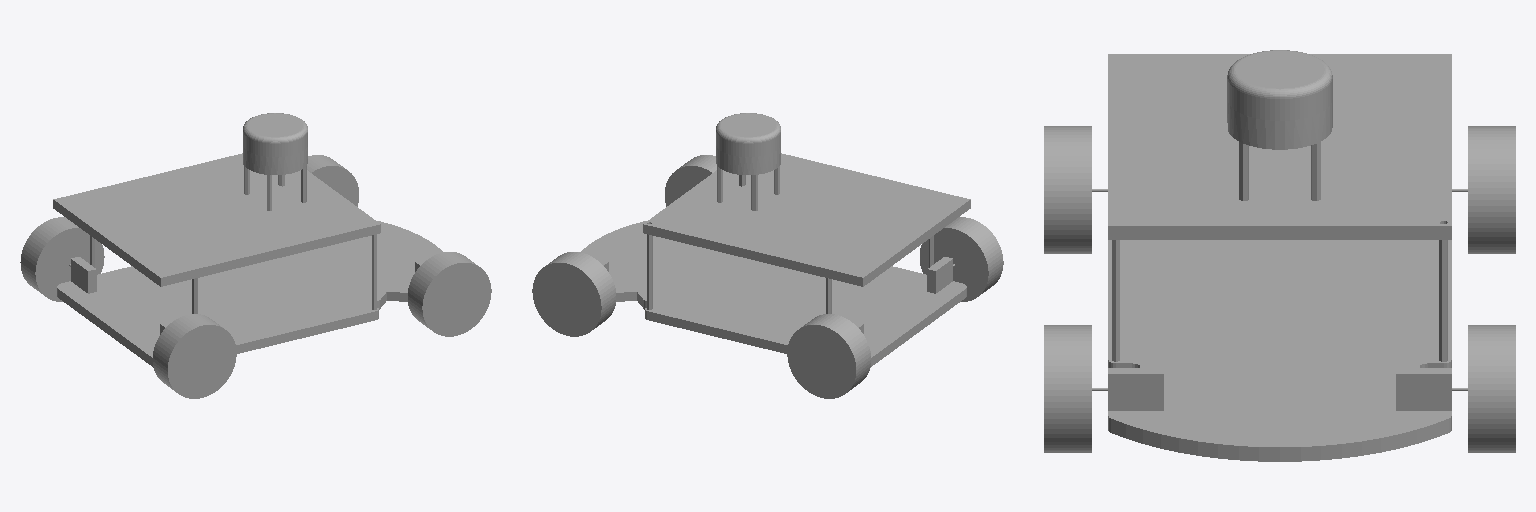
The robot description file, URDF, robot "4weel_version2":
<?xml version="1.0" ?>
<!-- =================================================================================== -->
<!-- |    This document was autogenerated by xacro from urdf/4weel_version2.xacro      | -->
<!-- |    EDITING THIS FILE BY HAND IS NOT RECOMMENDED                                 | -->
<!-- =================================================================================== -->
<robot xmlns:xacro="http://www.ros.org/wiki/xacro" name="4weel_version2">
  <material name="silver">
    <color rgba="0.700 0.700 0.700 1.000"/>
  </material>
  <transmission name="Revolute 8_tran">
    <type>transmission_interface/SimpleTransmission</type>
    <joint name="Revolute 8">
      <hardwareInterface>hardware_interface/EffortJointInterface</hardwareInterface>
    </joint>
    <actuator name="Revolute 8_actr">
      <hardwareInterface>hardware_interface/EffortJointInterface</hardwareInterface>
      <mechanicalReduction>1</mechanicalReduction>
    </actuator>
  </transmission>
  <transmission name="Revolute 9_tran">
    <type>transmission_interface/SimpleTransmission</type>
    <joint name="Revolute 9">
      <hardwareInterface>hardware_interface/EffortJointInterface</hardwareInterface>
    </joint>
    <actuator name="Revolute 9_actr">
      <hardwareInterface>hardware_interface/EffortJointInterface</hardwareInterface>
      <mechanicalReduction>1</mechanicalReduction>
    </actuator>
  </transmission>
  <transmission name="Revolute 10_tran">
    <type>transmission_interface/SimpleTransmission</type>
    <joint name="Revolute 10">
      <hardwareInterface>hardware_interface/EffortJointInterface</hardwareInterface>
    </joint>
    <actuator name="Revolute 10_actr">
      <hardwareInterface>hardware_interface/EffortJointInterface</hardwareInterface>
      <mechanicalReduction>1</mechanicalReduction>
    </actuator>
  </transmission>
  <transmission name="Revolute 11_tran">
    <type>transmission_interface/SimpleTransmission</type>
    <joint name="Revolute 11">
      <hardwareInterface>hardware_interface/EffortJointInterface</hardwareInterface>
    </joint>
    <actuator name="Revolute 11_actr">
      <hardwareInterface>hardware_interface/EffortJointInterface</hardwareInterface>
      <mechanicalReduction>1</mechanicalReduction>
    </actuator>
  </transmission>
  <gazebo>
    <plugin name="control" filename="libgazebo_ros_control.so"/>
  </gazebo>
  <gazebo reference="base_link">
    <material>Gazebo/Silver</material>
    <mu1>0.2</mu1>
    <mu2>0.2</mu2>
    <selfCollide>true</selfCollide>
    <gravity>true</gravity>
  </gazebo>
  <gazebo reference="lidar_v1_1">
    <material>Gazebo/Silver</material>
    <mu1>0.2</mu1>
    <mu2>0.2</mu2>
    <selfCollide>true</selfCollide>
  </gazebo>
  <gazebo reference="back_left_1">
    <material>Gazebo/Silver</material>
    <mu1>0.2</mu1>
    <mu2>0.2</mu2>
    <selfCollide>true</selfCollide>
  </gazebo>
  <gazebo reference="back_right_1">
    <material>Gazebo/Silver</material>
    <mu1>0.2</mu1>
    <mu2>0.2</mu2>
    <selfCollide>true</selfCollide>
  </gazebo>
  <gazebo reference="front_left_1">
    <material>Gazebo/Silver</material>
    <mu1>0.2</mu1>
    <mu2>0.2</mu2>
    <selfCollide>true</selfCollide>
  </gazebo>
  <gazebo reference="front_right_1">
    <material>Gazebo/Silver</material>
    <mu1>0.2</mu1>
    <mu2>0.2</mu2>
    <selfCollide>true</selfCollide>
  </gazebo>
  <link name="base_link">
    <inertial>
      <origin xyz="-0.0026827952129199395 -9.24237718342667e-06 0.050011490590469505" rpy="0 0 0"/>
      <mass value="11.135828149573104"/>
      <inertia ixx="0.069638" iyy="0.133325" izz="0.14446" ixy="1.3e-05" iyz="4e-06" ixz="0.010205"/>
    </inertial>
    <visual>
      <origin xyz="0 0 0" rpy="0 0 0"/>
      <geometry>
        <mesh filename="package://4weel_version2_description/meshes/base_link.stl" scale="0.001 0.001 0.001"/>
      </geometry>
      <material name="silver"/>
    </visual>
    <collision>
      <origin xyz="0 0 0" rpy="0 0 0"/>
      <geometry>
        <mesh filename="package://4weel_version2_description/meshes/base_link.stl" scale="0.001 0.001 0.001"/>
      </geometry>
    </collision>
  </link>
  <link name="lidar_v1_1">
    <inertial>
      <origin xyz="0.09999999899417161 -4.220056531838944e-18 0.009858499938735416" rpy="0 0 0"/>
      <mass value="0.5286905929941375"/>
      <inertia ixx="0.000159" iyy="0.000159" izz="0.000284" ixy="-0.0" iyz="0.0" ixz="-0.0"/>
    </inertial>
    <visual>
      <origin xyz="0.0675 -0.0 -0.165" rpy="0 0 0"/>
      <geometry>
        <mesh filename="package://4weel_version2_description/meshes/lidar_v1_1.stl" scale="0.001 0.001 0.001"/>
      </geometry>
      <material name="silver"/>
    </visual>
    <collision>
      <origin xyz="0.0675 -0.0 -0.165" rpy="0 0 0"/>
      <geometry>
        <mesh filename="package://4weel_version2_description/meshes/lidar_v1_1.stl" scale="0.001 0.001 0.001"/>
      </geometry>
    </collision>
  </link>
  <link name="back_left_1">
    <inertial>
      <origin xyz="-2.0116567023276133e-09 -0.015000000000000013 1.0408340855860843e-17" rpy="0 0 0"/>
      <mass value="1.1837521118726324"/>
      <inertia ixx="0.000562" iyy="0.000947" izz="0.000562" ixy="-0.0" iyz="0.0" ixz="-0.0"/>
    </inertial>
    <visual>
      <origin xyz="0.1375 0.1175 -0.0225" rpy="0 0 0"/>
      <geometry>
        <mesh filename="package://4weel_version2_description/meshes/back_left_1.stl" scale="0.001 0.001 0.001"/>
      </geometry>
      <material name="silver"/>
    </visual>
    <collision>
      <origin xyz="0.1375 0.1175 -0.0225" rpy="0 0 0"/>
      <geometry>
        <mesh filename="package://4weel_version2_description/meshes/back_left_1.stl" scale="0.001 0.001 0.001"/>
      </geometry>
    </collision>
  </link>
  <link name="back_right_1">
    <inertial>
      <origin xyz="-2.01165678559434e-09 0.01499999999999993 0.0" rpy="0 0 0"/>
      <mass value="1.1837521118726324"/>
      <inertia ixx="0.000562" iyy="0.000947" izz="0.000562" ixy="0.0" iyz="-0.0" ixz="0.0"/>
    </inertial>
    <visual>
      <origin xyz="0.1375 -0.1175 -0.0225" rpy="0 0 0"/>
      <geometry>
        <mesh filename="package://4weel_version2_description/meshes/back_right_1.stl" scale="0.001 0.001 0.001"/>
      </geometry>
      <material name="silver"/>
    </visual>
    <collision>
      <origin xyz="0.1375 -0.1175 -0.0225" rpy="0 0 0"/>
      <geometry>
        <mesh filename="package://4weel_version2_description/meshes/back_right_1.stl" scale="0.001 0.001 0.001"/>
      </geometry>
    </collision>
  </link>
  <link name="front_left_1">
    <inertial>
      <origin xyz="-2.0116567578387645e-09 0.015000000000000013 3.469446951953614e-17" rpy="0 0 0"/>
      <mass value="1.1837521118726333"/>
      <inertia ixx="0.000562" iyy="0.000947" izz="0.000562" ixy="0.0" iyz="0.0" ixz="-0.0"/>
    </inertial>
    <visual>
      <origin xyz="-0.1575 -0.1175 -0.0225" rpy="0 0 0"/>
      <geometry>
        <mesh filename="package://4weel_version2_description/meshes/front_left_1.stl" scale="0.001 0.001 0.001"/>
      </geometry>
      <material name="silver"/>
    </visual>
    <collision>
      <origin xyz="-0.1575 -0.1175 -0.0225" rpy="0 0 0"/>
      <geometry>
        <mesh filename="package://4weel_version2_description/meshes/front_left_1.stl" scale="0.001 0.001 0.001"/>
      </geometry>
    </collision>
  </link>
  <link name="front_right_1">
    <inertial>
      <origin xyz="-2.0116567578387645e-09 -0.015000000000000013 0.0" rpy="0 0 0"/>
      <mass value="1.1837521118726337"/>
      <inertia ixx="0.000562" iyy="0.000947" izz="0.000562" ixy="0.0" iyz="-0.0" ixz="0.0"/>
    </inertial>
    <visual>
      <origin xyz="-0.1575 0.1175 -0.0225" rpy="0 0 0"/>
      <geometry>
        <mesh filename="package://4weel_version2_description/meshes/front_right_1.stl" scale="0.001 0.001 0.001"/>
      </geometry>
      <material name="silver"/>
    </visual>
    <collision>
      <origin xyz="-0.1575 0.1175 -0.0225" rpy="0 0 0"/>
      <geometry>
        <mesh filename="package://4weel_version2_description/meshes/front_right_1.stl" scale="0.001 0.001 0.001"/>
      </geometry>
    </collision>
  </link>
  <joint name="Rigid 3" type="fixed">
    <origin xyz="-0.0675 0.0 0.165" rpy="0 0 0"/>
    <parent link="base_link"/>
    <child link="lidar_v1_1"/>
  </joint>
  <joint name="Revolute 8" type="continuous">
    <origin xyz="-0.1375 -0.1175 0.0225" rpy="0 0 0"/>
    <parent link="base_link"/>
    <child link="back_left_1"/>
    <axis xyz="0.0 -1.0 0.0"/>
  </joint>
  <joint name="Revolute 9" type="continuous">
    <origin xyz="-0.1375 0.1175 0.0225" rpy="0 0 0"/>
    <parent link="base_link"/>
    <child link="back_right_1"/>
    <axis xyz="0.0 1.0 0.0"/>
  </joint>
  <joint name="Revolute 10" type="continuous">
    <origin xyz="0.1575 0.1175 0.0225" rpy="0 0 0"/>
    <parent link="base_link"/>
    <child link="front_left_1"/>
    <axis xyz="0.0 1.0 0.0"/>
  </joint>
  <joint name="Revolute 11" type="continuous">
    <origin xyz="0.1575 -0.1175 0.0225" rpy="0 0 0"/>
    <parent link="base_link"/>
    <child link="front_right_1"/>
    <axis xyz="0.0 -1.0 0.0"/>
  </joint>
</robot>

--- Facts derived from the render (not from the file) ---
Views: 3 orthographic renders of the robot side by side, from view 1: azimuth 30°, elevation 25°; view 2: azimuth 150°, elevation 25°; view 3: azimuth 270°, elevation 25°.
Robot: 4weel_version2 — 6 links, 5 joints (4 continuous, 1 fixed); root link base_link; default pose: all joints at 0.
Visible links, largest first — view 1: base_link, back_left_1, front_right_1, back_right_1, lidar_v1_1, front_left_1; view 2: base_link, back_right_1, front_left_1, back_left_1, lidar_v1_1, front_right_1; view 3: base_link, lidar_v1_1, back_left_1, back_right_1, front_left_1, front_right_1.
Link boxes in pixels (x1,y1,x2,y2): base_link: (53,147,442,367); back_left_1: (153,314,236,398); front_right_1: (408,252,491,336); back_right_1: (20,217,104,301); lidar_v1_1: (243,113,307,156); front_left_1: (307,155,358,206); base_link: (581,146,970,367); back_right_1: (787,314,870,398); front_left_1: (532,252,615,336); back_left_1: (920,217,1003,301); lidar_v1_1: (716,113,780,156); front_right_1: (665,155,716,206); base_link: (1092,54,1467,461); lidar_v1_1: (1227,50,1332,120); back_left_1: (1044,126,1091,253); back_right_1: (1468,126,1515,253); front_left_1: (1468,325,1515,452); front_right_1: (1044,325,1091,452).
Bounding box of the posed robot: 0.3945 × 0.295 × 0.2025 m (x, y, z).
6 mesh visuals loaded from 6 distinct referenced files (6 binary STL).